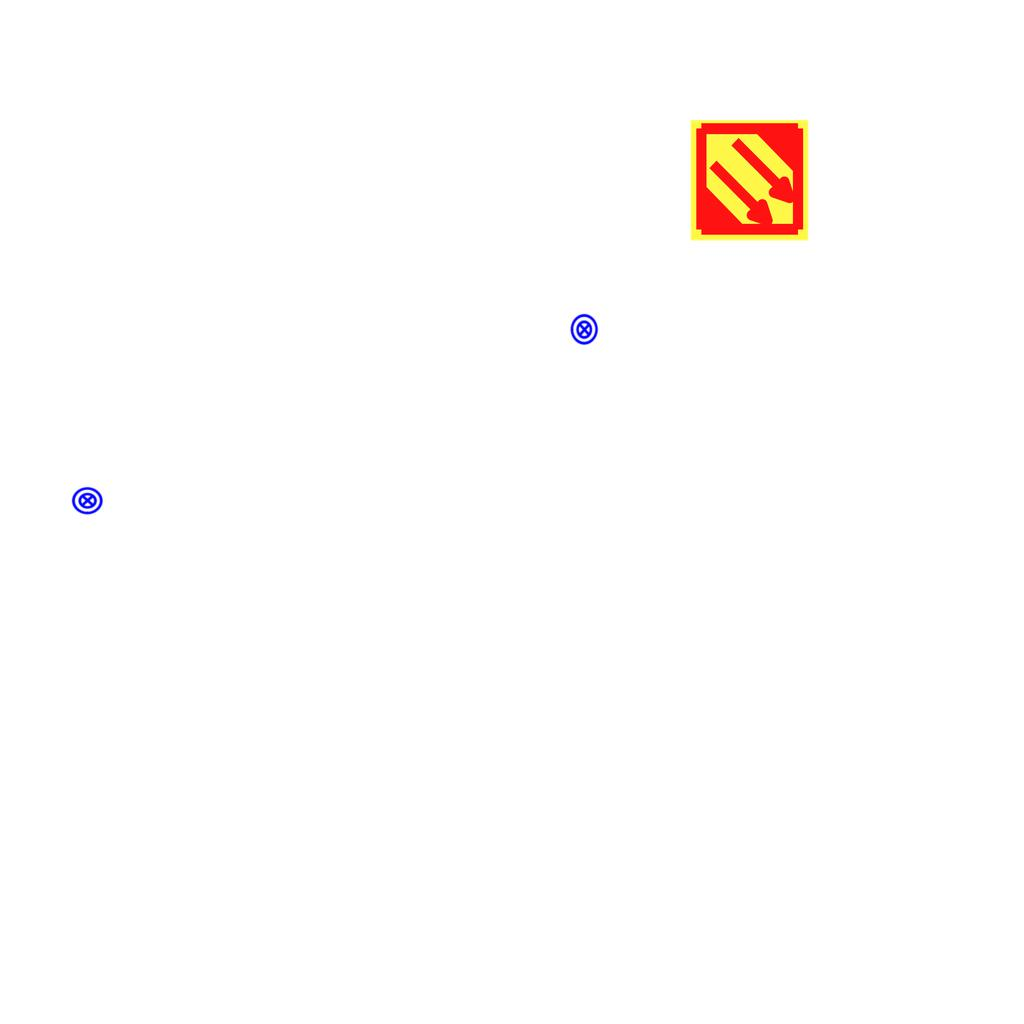ASR_Ansaugrauchmelder: (687, 118, 812, 243)
Taster_beleuchtet: (71, 484, 104, 517), (568, 313, 601, 346)
